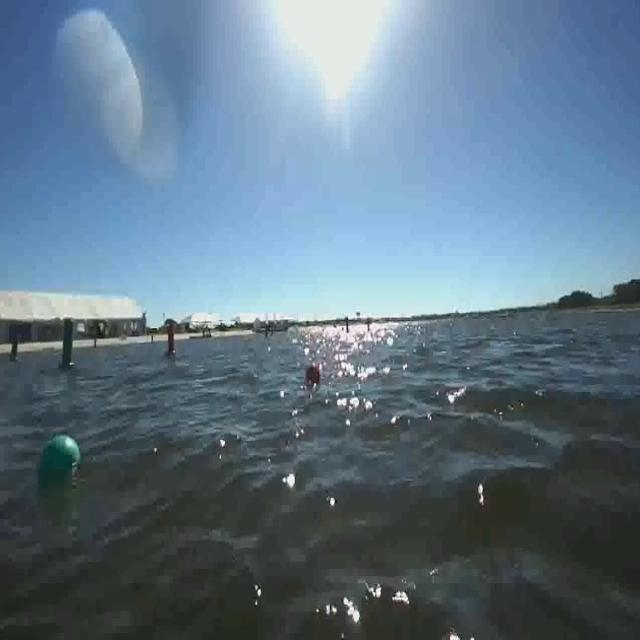green-buoy: (36, 432, 81, 492)
red-buoy: (304, 361, 322, 386)
